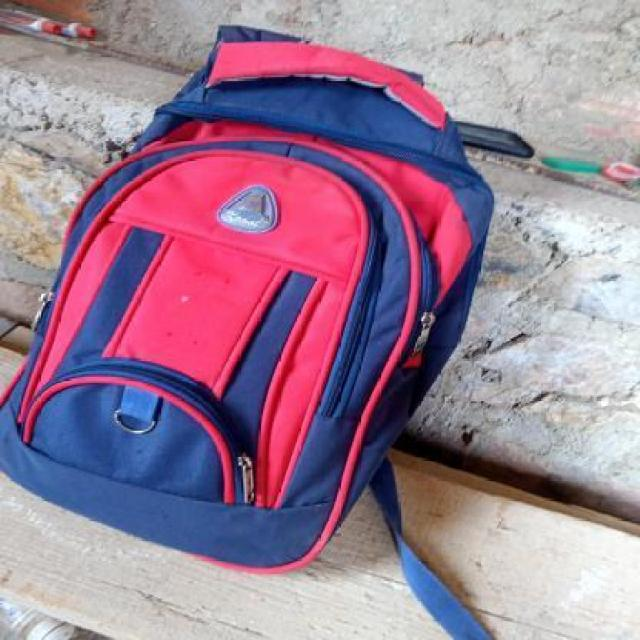backpack: (0, 14, 502, 580)
